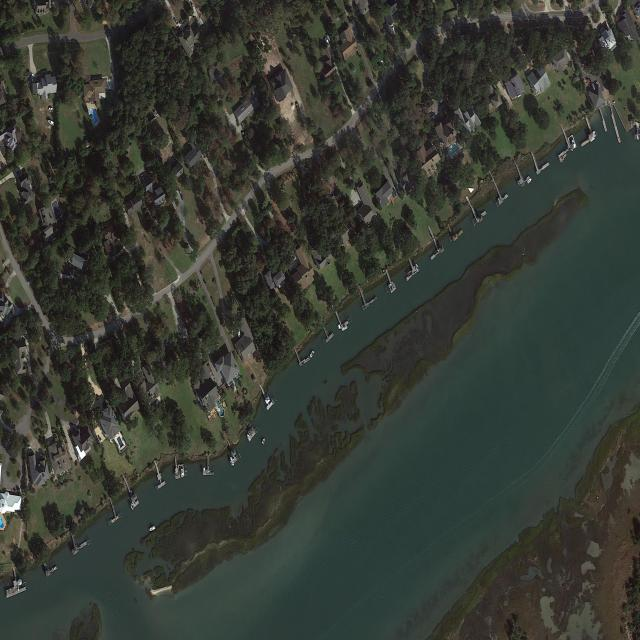ship: (47, 119, 55, 127), (149, 525, 156, 533), (341, 324, 348, 332), (571, 139, 576, 150), (309, 349, 315, 358), (393, 188, 398, 198), (415, 263, 420, 272), (246, 433, 251, 442), (230, 456, 234, 467), (390, 23, 395, 31), (174, 17, 179, 25), (154, 110, 159, 118), (261, 437, 266, 445), (527, 177, 532, 184), (98, 436, 103, 443), (130, 503, 134, 511), (203, 466, 206, 476), (191, 2, 195, 9), (181, 469, 184, 478), (392, 192, 395, 199)
small-vehicle: (51, 236, 57, 243), (586, 78, 591, 83), (178, 187, 181, 195), (181, 193, 184, 200), (49, 107, 53, 111)
